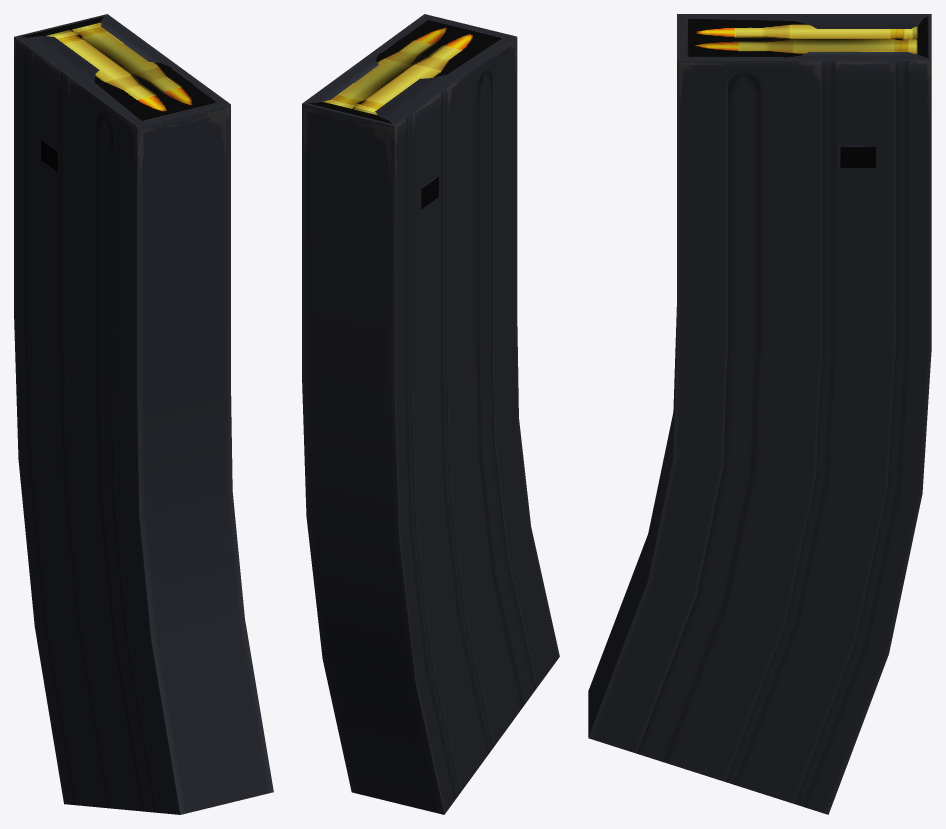
File: Stanag_Mag.obj
The picture shows the model from 3 angles, left to right: view 1: azimuth 30°, elevation 25°; view 2: azimuth 150°, elevation 25°; view 3: azimuth 270°, elevation 25°; orthographic projection. The views are drawn at different scales.
Parts seen in each view (by area): view 1: Cube_Cube.001; view 2: Cube_Cube.001; view 3: Cube_Cube.001.
Part boxes in pixels (<box>): Cube_Cube.001: <box>14,14,273,814</box>; Cube_Cube.001: <box>302,14,559,814</box>; Cube_Cube.001: <box>588,14,931,814</box>.
Bounding box in the file's own units: 0.0241 × 0.1803 × 0.0744.
